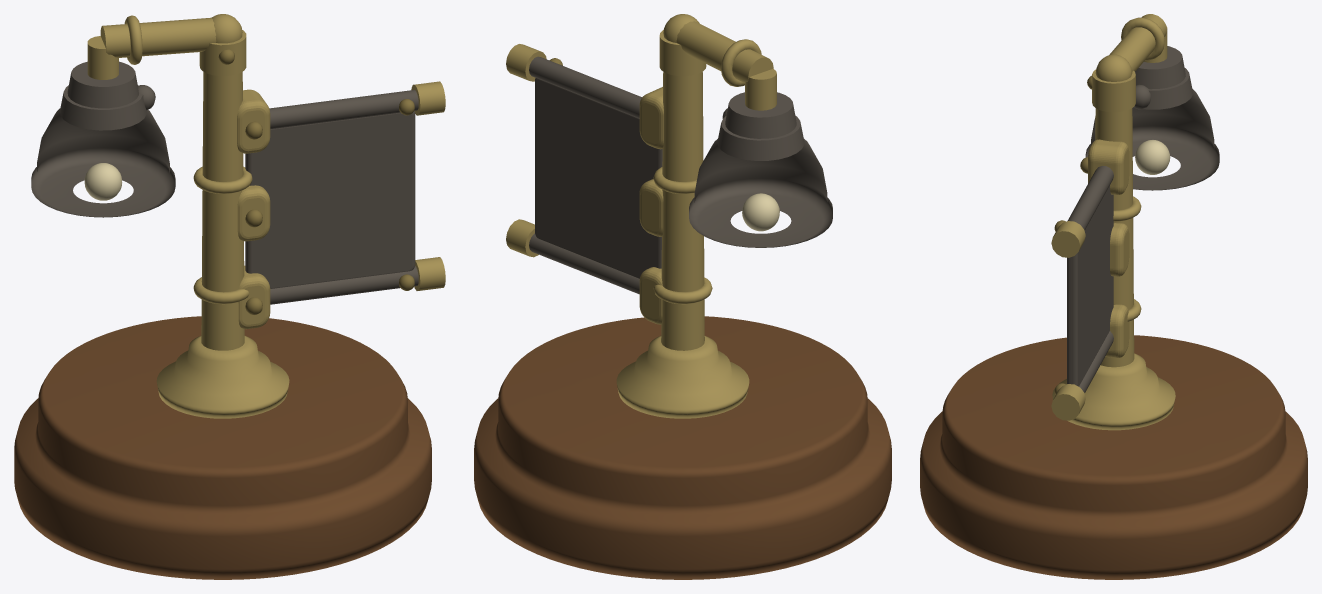
Rendered from ch5-piece-blackout-screen.glb.
The picture shows the model from 3 angles, left to right: view 1: azimuth 30°, elevation 25°; view 2: azimuth 150°, elevation 25°; view 3: azimuth 270°, elevation 25°; orthographic projection. The views are drawn at different scales.
Visible parts, largest first — view 1: base, panel_screen, shade_bell, post, foot, panel_rod (×2), clamp (×3), arm, shade_collar1, shade_collar2, rod_cap (×2), post_ring (×2) (+5 smaller); view 2: base, panel_screen, shade_bell, post, foot, panel_rod (×2), clamp (×3), arm, shade_collar1, shade_collar2, rod_cap (×2), post_ring (×2) (+4 smaller); view 3: base, panel_screen, shade_bell, foot, clamp (×3), post, rod_cap (×2), panel_rod (×2), post_cap, shade_collar1, arm, shade_collar2 (+3 smaller).
Boxes of the visible parts, x1,y1,x2,y2 form: base: (14, 316, 431, 579); panel_screen: (245, 111, 415, 288); shade_bell: (31, 108, 175, 217); post: (201, 72, 244, 350); foot: (156, 336, 289, 418); panel_rod (×2): (269, 90, 418, 304); clamp (×3): (237, 89, 270, 329); arm: (100, 17, 216, 57); shade_collar1: (67, 61, 138, 108); shade_collar2: (60, 85, 146, 130); rod_cap (×2): (411, 81, 445, 290); post_ring (×2): (193, 166, 252, 304); base: (474, 316, 891, 579); panel_screen: (535, 78, 662, 278); shade_bell: (689, 139, 832, 247); post: (661, 72, 704, 350); foot: (616, 336, 749, 418); panel_rod (×2): (529, 56, 641, 294); clamp (×3): (639, 87, 663, 324); arm: (676, 21, 773, 83); shade_collar1: (725, 92, 796, 138); shade_collar2: (717, 115, 804, 160); rod_cap (×2): (506, 44, 546, 257); post_ring (×2): (653, 167, 712, 304); base: (920, 335, 1307, 579); panel_screen: (1067, 185, 1113, 386); shade_bell: (1085, 89, 1219, 190); foot: (1052, 353, 1175, 430); clamp (×3): (1088, 139, 1129, 357); post: (1095, 108, 1134, 367); rod_cap (×2): (1051, 221, 1085, 420); panel_rod (×2): (1067, 166, 1113, 392); post_cap: (1092, 69, 1135, 112); shade_collar1: (1135, 46, 1185, 89); arm: (1109, 14, 1167, 71); shade_collar2: (1133, 68, 1192, 109).
Bounding box in the file's own units: 0.1144 × 0.1401 × 0.11.
